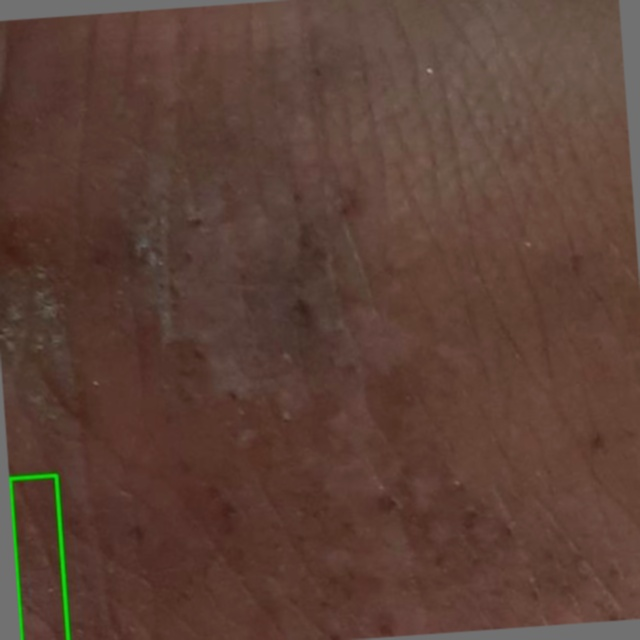Eczema: (9, 475, 68, 639)
